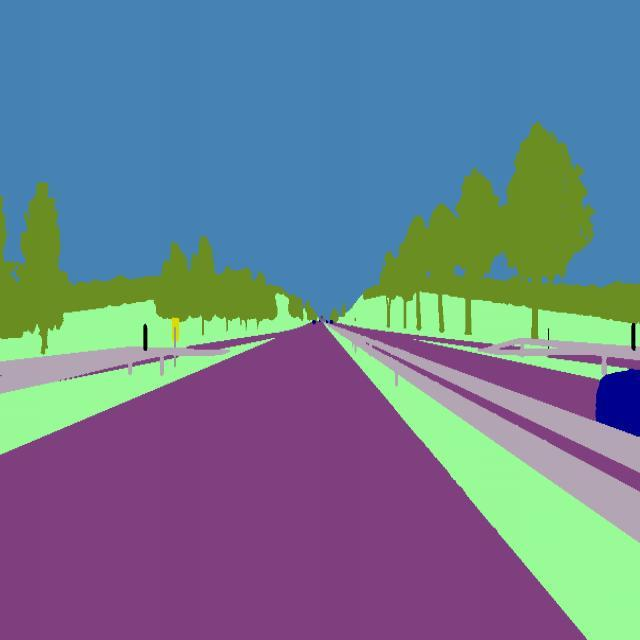safe: (593, 361, 640, 454)
